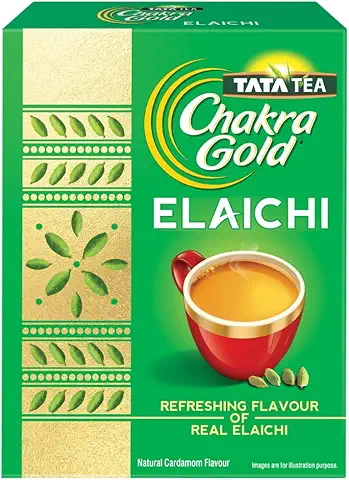Tea: (3, 5, 349, 479)
